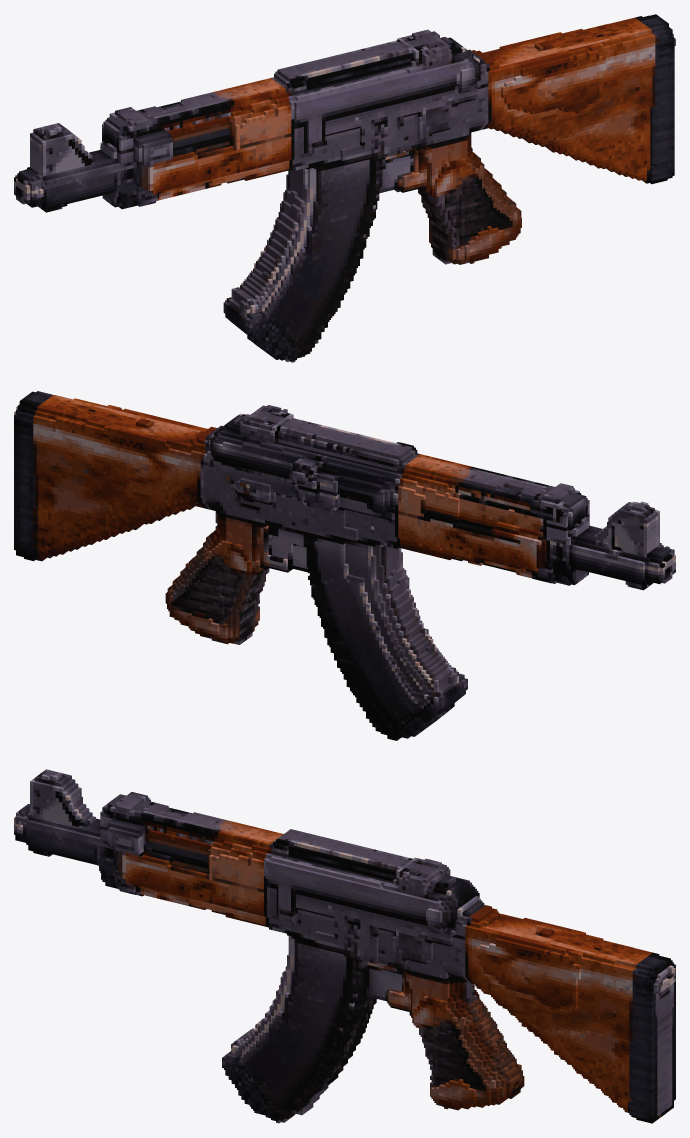
Rendered from akm_voxel_m.obj.
3 views of the same model, one above another, from view 1: azimuth 30°, elevation 25°; view 2: azimuth 150°, elevation 25°; view 3: azimuth 330°, elevation 25° (orthographic).
Size of the model in its own units: 1 by 0.425 by 0.115.
